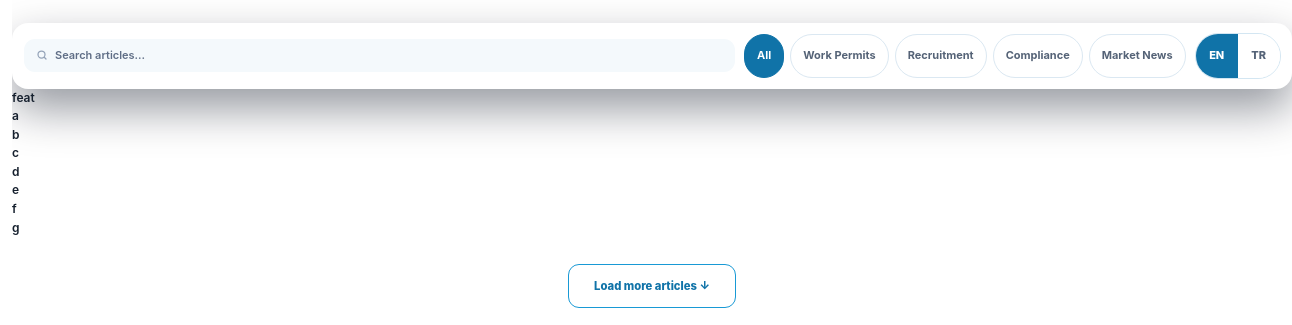
Test case: the index islands (S1.3, S3.2, M3, M4 — IndexState, BlogTools, LoadMore, ResultLine) › shows the no-results panel when nothing matches
The width and height of the screenshot is (1292, 325).
Step 1. Type "zzz" into the search field labelled "Search articles" → (389,56), box [55,47,723,64]
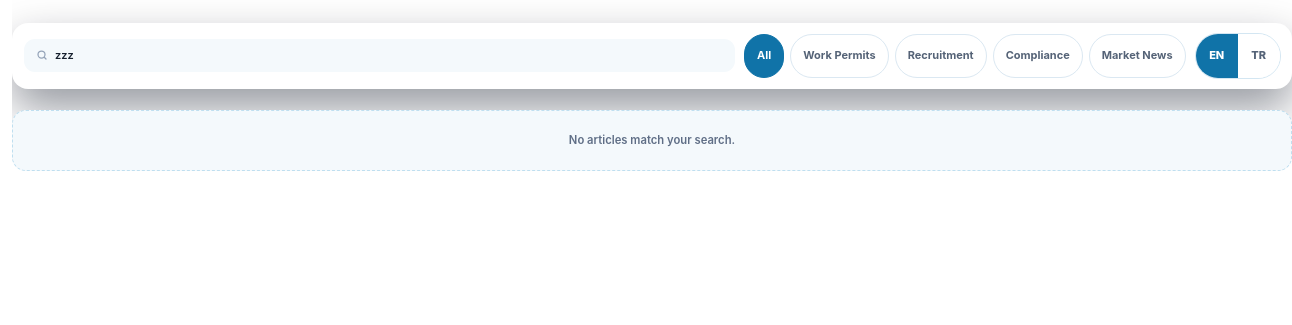
Expected: the text with test id "blog-no-results" reads "No articles match your search.", [569,132,735,146]
Expected: the button with test id "blog-load-more" is gone
